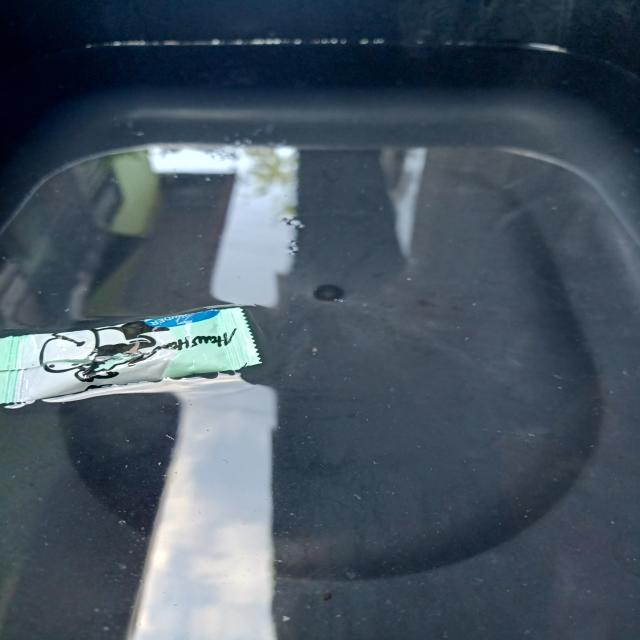Plastic Wrapper: (0, 293, 270, 427)
